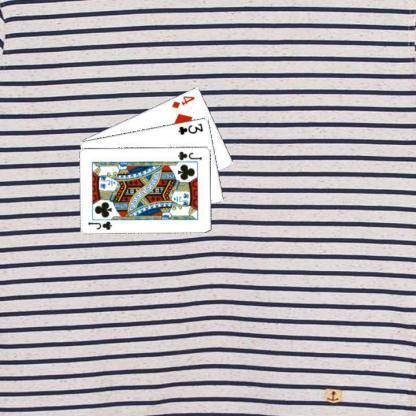3C: (176, 121, 204, 136)
4D: (169, 93, 196, 109)
JC: (176, 149, 203, 161), (86, 219, 113, 231)
